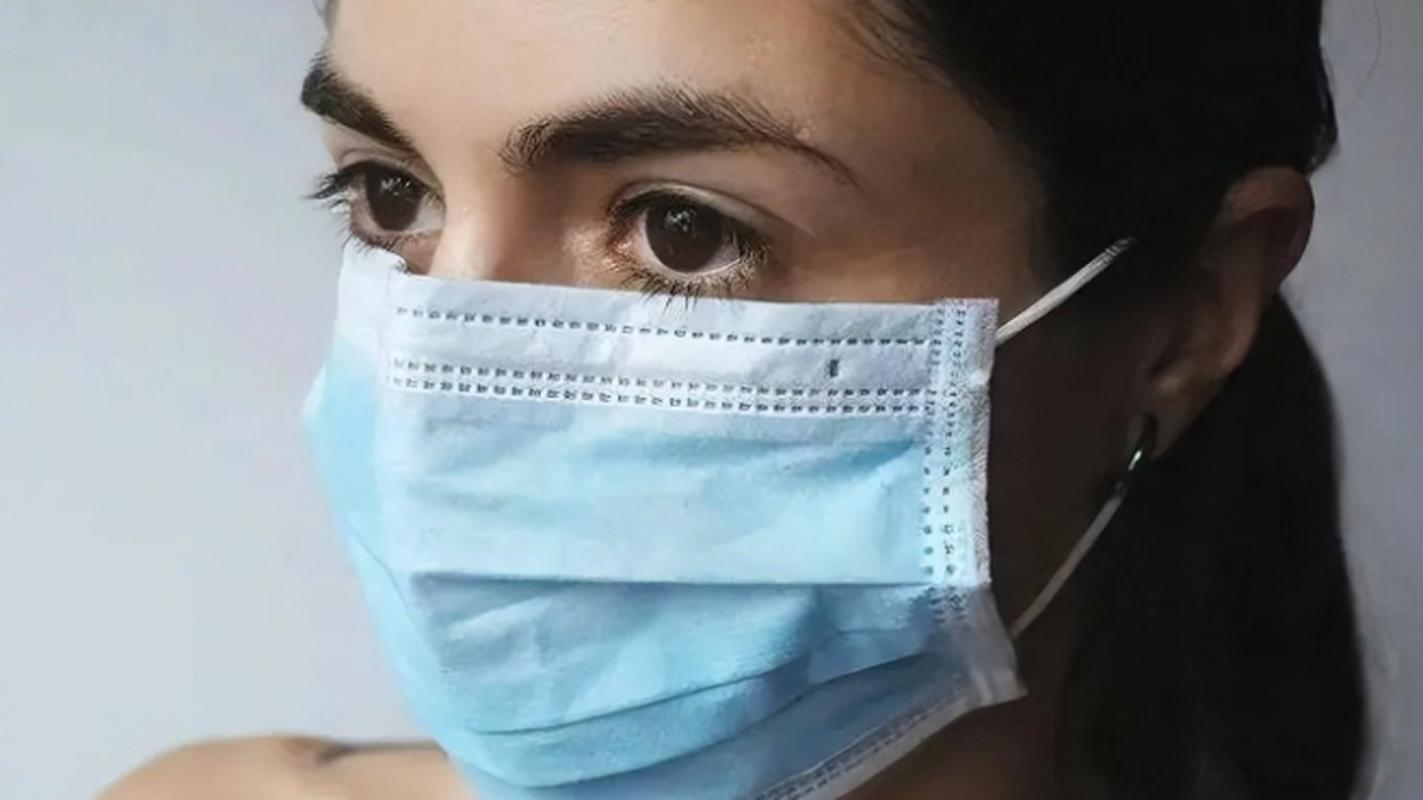mask: (291, 54, 1076, 759)
